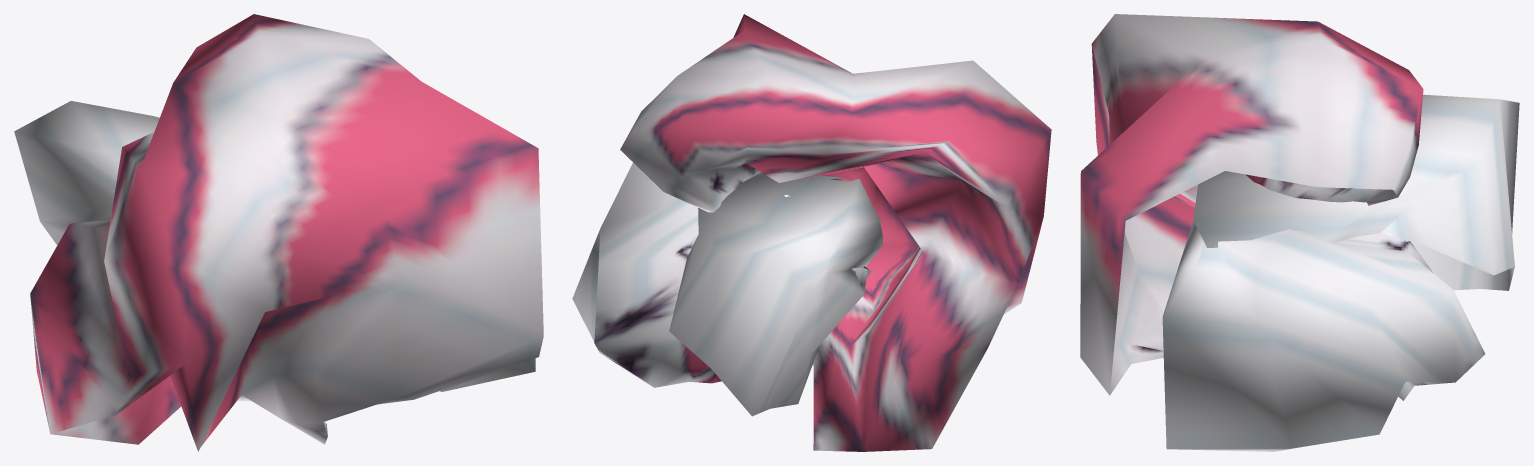
The model's file is crumpled-paper-00.glb.
3 views of the same model, side by side, from view 1: azimuth 30°, elevation 25°; view 2: azimuth 150°, elevation 25°; view 3: azimuth 270°, elevation 25° (orthographic). The views are drawn at different scales.
Parts seen in each view (by area): view 1: Crumpled Paper 010; view 2: Crumpled Paper 010; view 3: Crumpled Paper 010.
Boxes of the visible parts, box(x1,y1,x2,y2) form: Crumpled Paper 010: box(14, 14, 543, 451); Crumpled Paper 010: box(572, 14, 1051, 451); Crumpled Paper 010: box(1080, 14, 1519, 451).
Size of the model in its own units: 1.76 by 1.57 by 1.7.
Materials: 1 (1 with a texture image).
